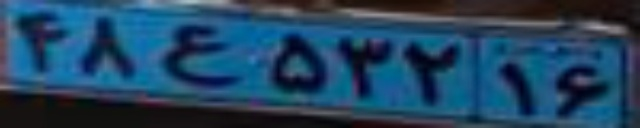1: (498, 61, 536, 116)
2: (400, 40, 462, 106)
3: (334, 35, 393, 98)
4: (14, 13, 67, 71)
5: (269, 30, 329, 92)
6: (549, 64, 611, 118)
8: (73, 17, 136, 77)
ain: (162, 24, 242, 85)
